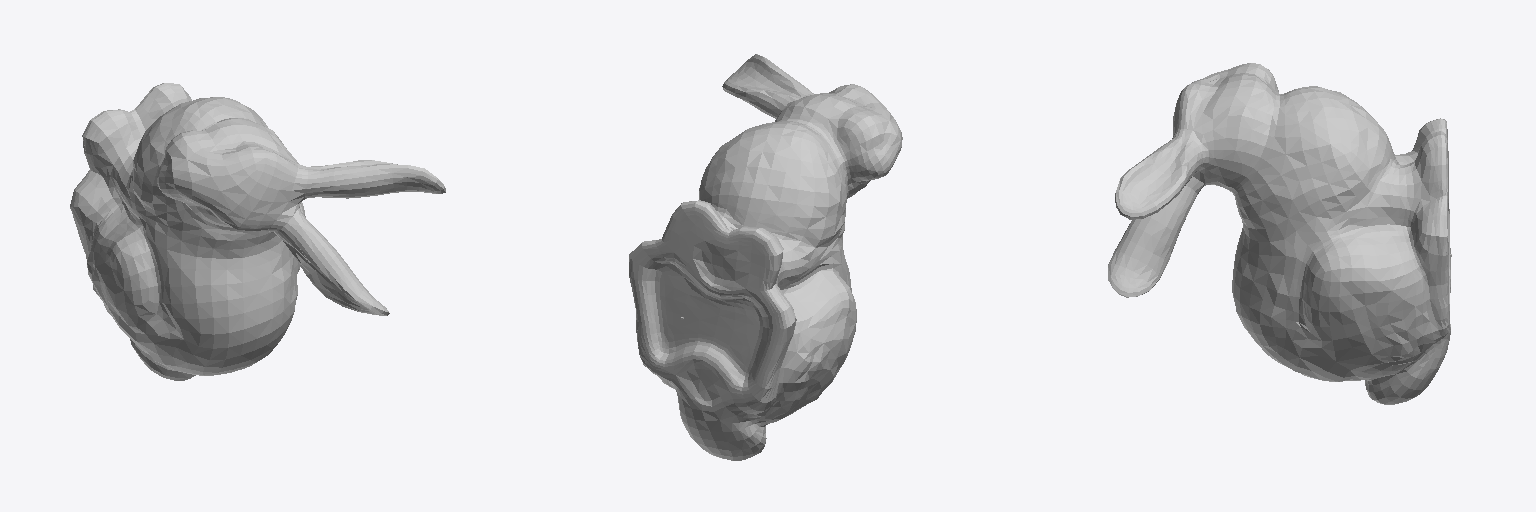
The model's file is bunny.obj.
The picture shows the model from 3 angles: view 1: azimuth 30°, elevation 25°; view 2: azimuth 150°, elevation 25°; view 3: azimuth 270°, elevation 25°; orthographic projection.
Parts seen in each view (by area): view 1: defaultMaterial; view 2: defaultMaterial; view 3: defaultMaterial.
Part boxes in pixels (left/top/right/bottom): defaultMaterial: left=70, top=83, right=445, bottom=380; defaultMaterial: left=629, top=54, right=902, bottom=460; defaultMaterial: left=1108, top=63, right=1450, bottom=404.
Size of the model in its own units: 229 by 300 by 301.